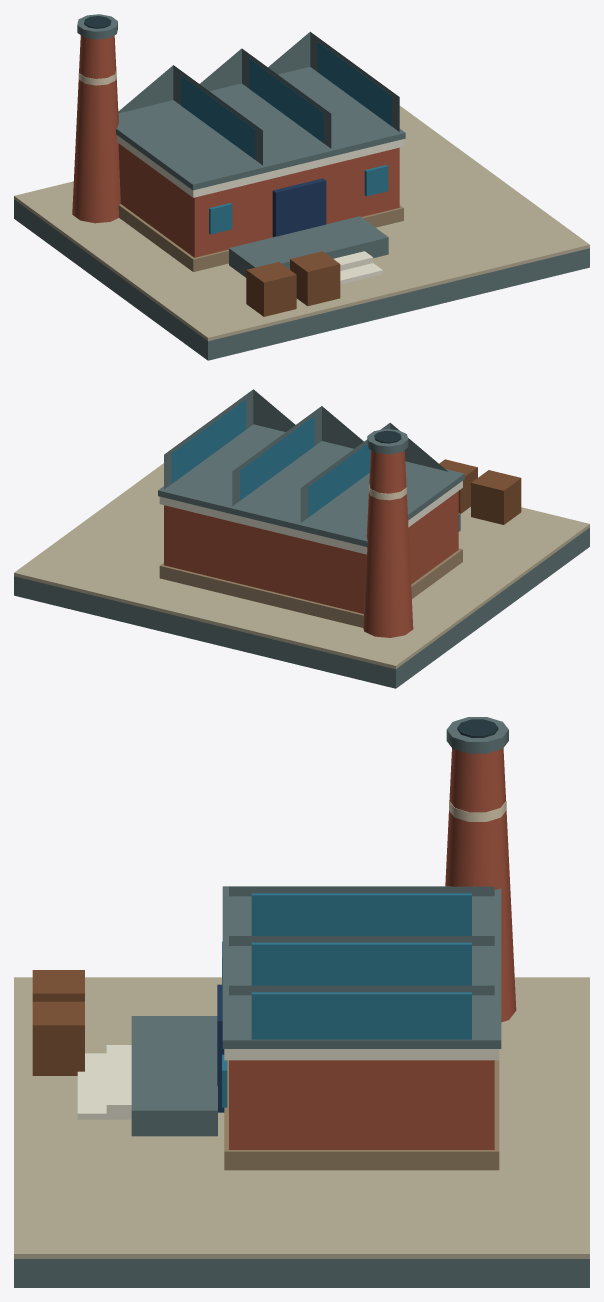
File: factory-lv1.glb
3 renders of one model, top to bottom at view 1: azimuth 30°, elevation 25°; view 2: azimuth 150°, elevation 25°; view 3: azimuth 270°, elevation 25°, orthographic. The views are drawn at different scales.
Visible parts, largest first — view 1: foundation_paving, main_workshop_roof_iron, main_workshop_clay, foundation_iron, chimney_clay, main_workshop_skylights_glass, main_workshop_sawtooth_iron, loading_platform_iron, supply_crates_wood, main_workshop_loading_door_naval, main_workshop_white, main_workshop_stoneDark (+3 smaller); view 2: foundation_paving, main_workshop_clay, main_workshop_roof_iron, foundation_iron, chimney_clay, main_workshop_skylights_glass, main_workshop_sawtooth_iron, main_workshop_stoneDark, supply_crates_wood, main_workshop_white, chimney_cap_iron; view 3: foundation_paving, main_workshop_skylights_glass, main_workshop_clay, foundation_iron, main_workshop_roof_iron, loading_platform_iron, chimney_clay, main_workshop_stoneDark, main_workshop_sawtooth_iron, supply_crates_wood, entrance_steps_white, main_workshop_white (+1 smaller).
Part boxes in pixels (x1,y1,x2,y2): foundation_paving: (14, 106, 589, 341); main_workshop_roof_iron: (116, 67, 405, 190); main_workshop_clay: (118, 143, 399, 257); foundation_iron: (14, 199, 589, 360); chimney_clay: (72, 35, 120, 223); main_workshop_skylights_glass: (181, 42, 391, 159); main_workshop_sawtooth_iron: (118, 31, 399, 165); loading_platform_iron: (229, 216, 388, 277); supply_crates_wood: (246, 251, 340, 316); main_workshop_loading_door_naval: (272, 178, 326, 237); main_workshop_white: (117, 135, 403, 197); main_workshop_stoneDark: (118, 204, 403, 271); foundation_paving: (14, 463, 589, 669); main_workshop_clay: (164, 491, 458, 613); main_workshop_roof_iron: (158, 424, 464, 547); foundation_iron: (14, 527, 589, 688); chimney_clay: (363, 450, 413, 637); main_workshop_skylights_glass: (171, 399, 370, 517); main_workshop_sawtooth_iron: (164, 389, 447, 522); main_workshop_stoneDark: (159, 548, 462, 627); supply_crates_wood: (439, 459, 521, 524); main_workshop_white: (159, 481, 462, 554); chimney_cap_iron: (367, 429, 408, 454); foundation_paving: (14, 977, 589, 1258); main_workshop_skylights_glass: (251, 893, 471, 1039); main_workshop_clay: (229, 1060, 494, 1149); foundation_iron: (14, 1259, 589, 1287); main_workshop_roof_iron: (222, 886, 501, 1048); loading_platform_iron: (131, 1016, 217, 1136); chimney_clay: (445, 748, 516, 1022); main_workshop_stoneDark: (224, 1060, 499, 1170); main_workshop_sawtooth_iron: (229, 886, 494, 995); supply_crates_wood: (32, 970, 84, 1075); entrance_steps_white: (77, 1045, 131, 1119); main_workshop_white: (224, 1049, 499, 1060).
Size of the model in its own units: 1 by 0.534 by 0.88.
